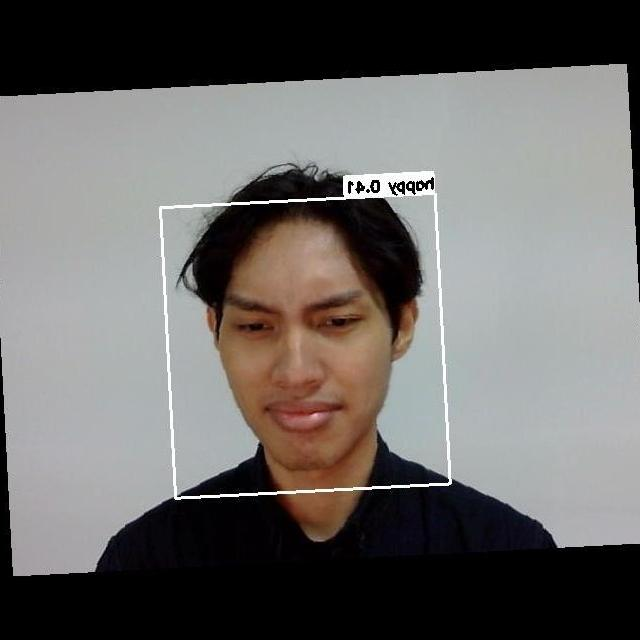Disgust: (214, 271, 403, 447)
